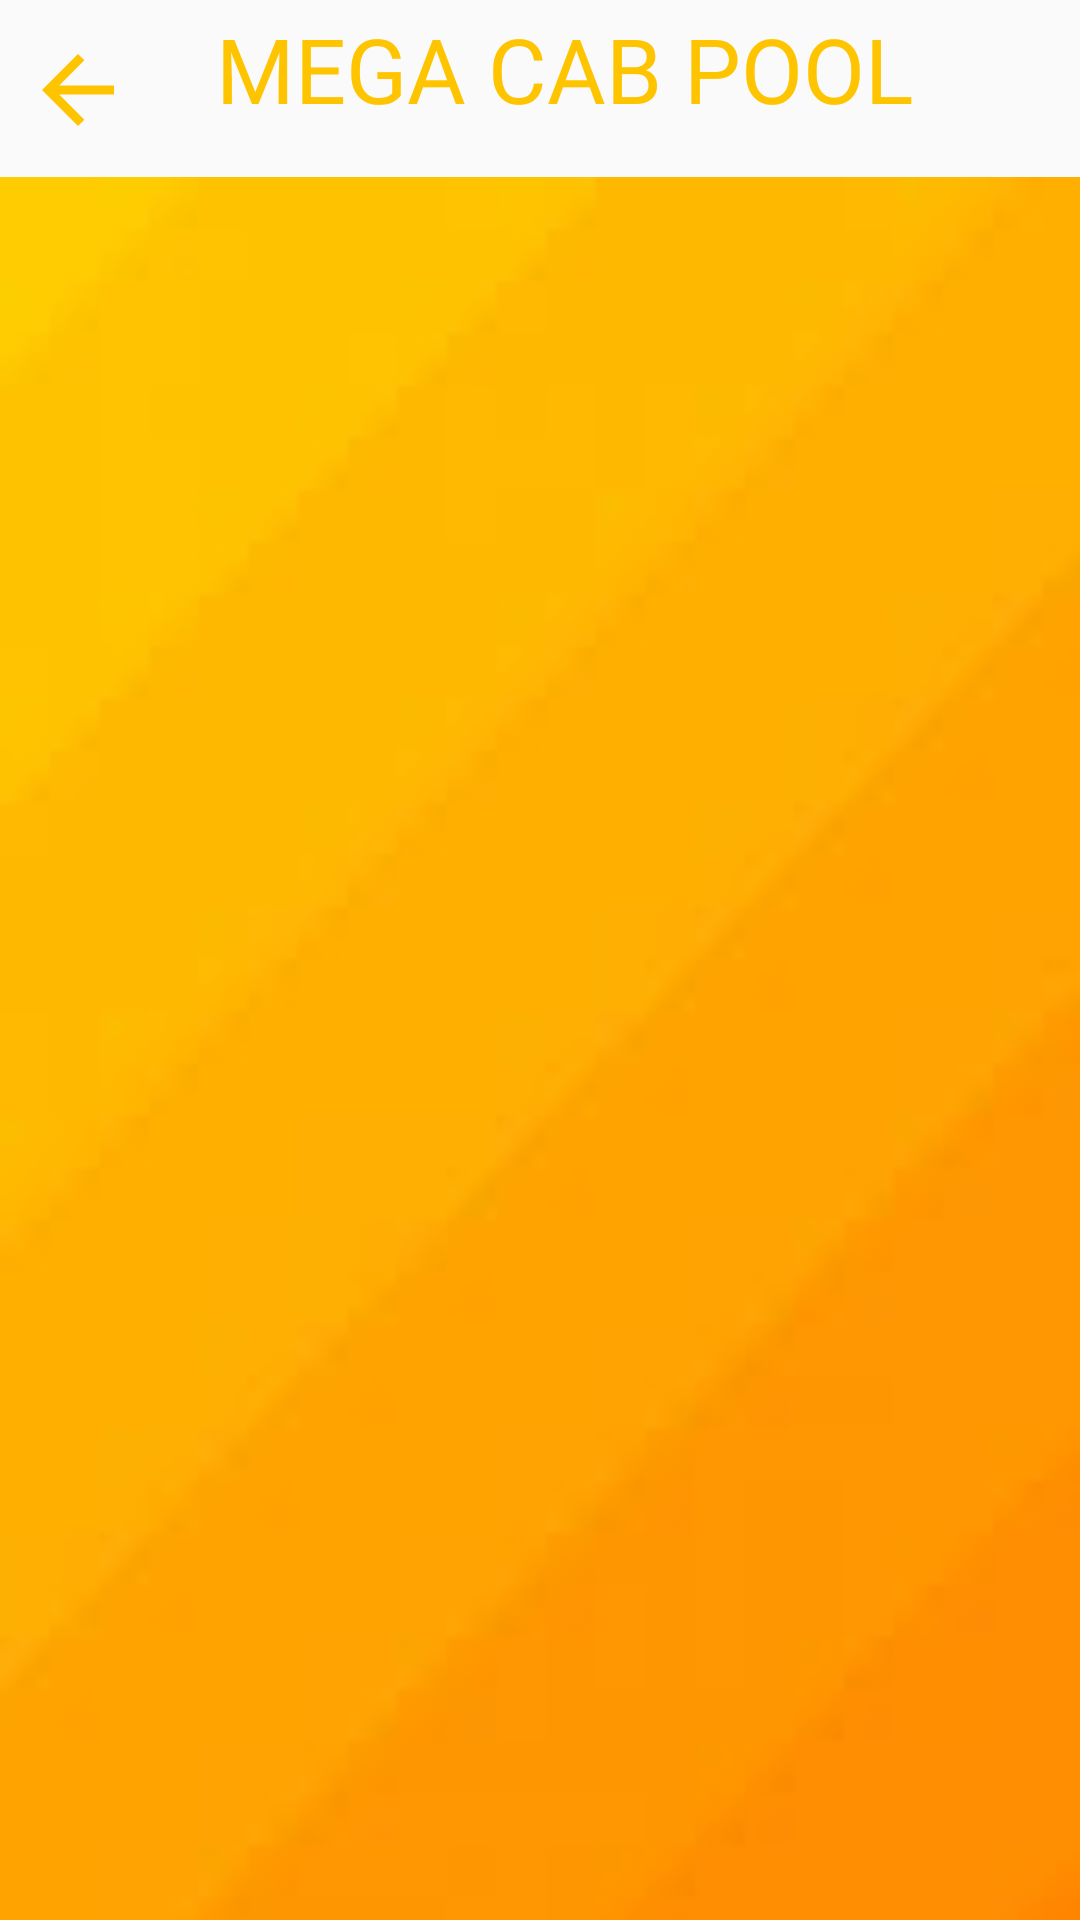

Locate icon controls on the screen. Image size 1080×1920, boxes as (x1, y1, x2, y2).
arrowyellow: (42, 54, 114, 126)
